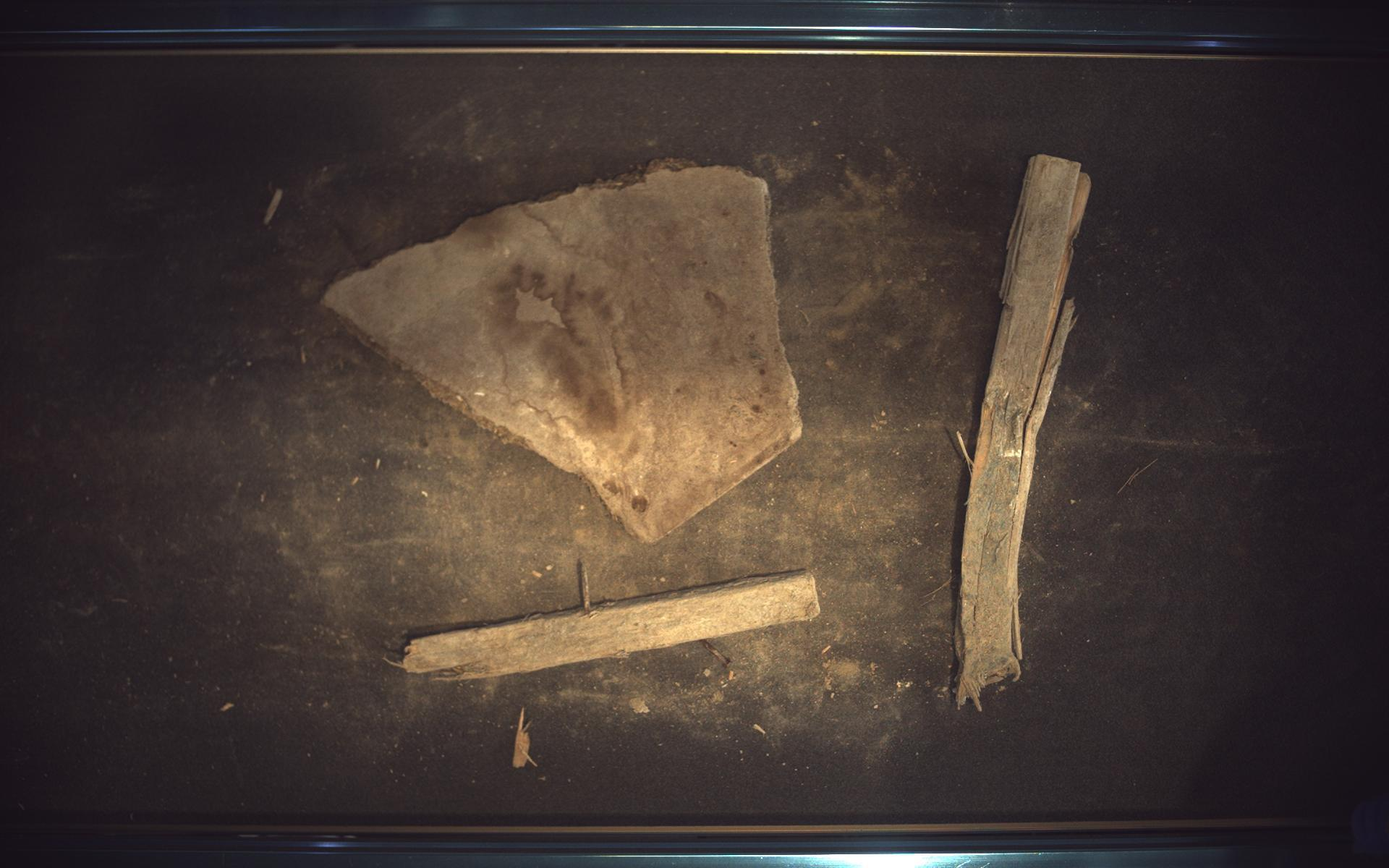wood: (323, 164, 803, 542), (401, 571, 821, 681)
